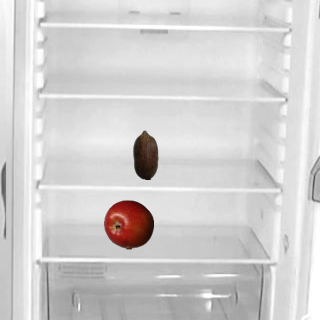Apple Braeburn: (103, 199, 153, 249)
Nut Pecan: (120, 129, 170, 179)
